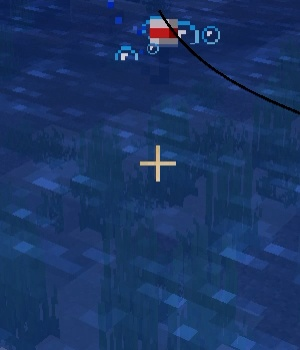up: (139, 14, 182, 83)
